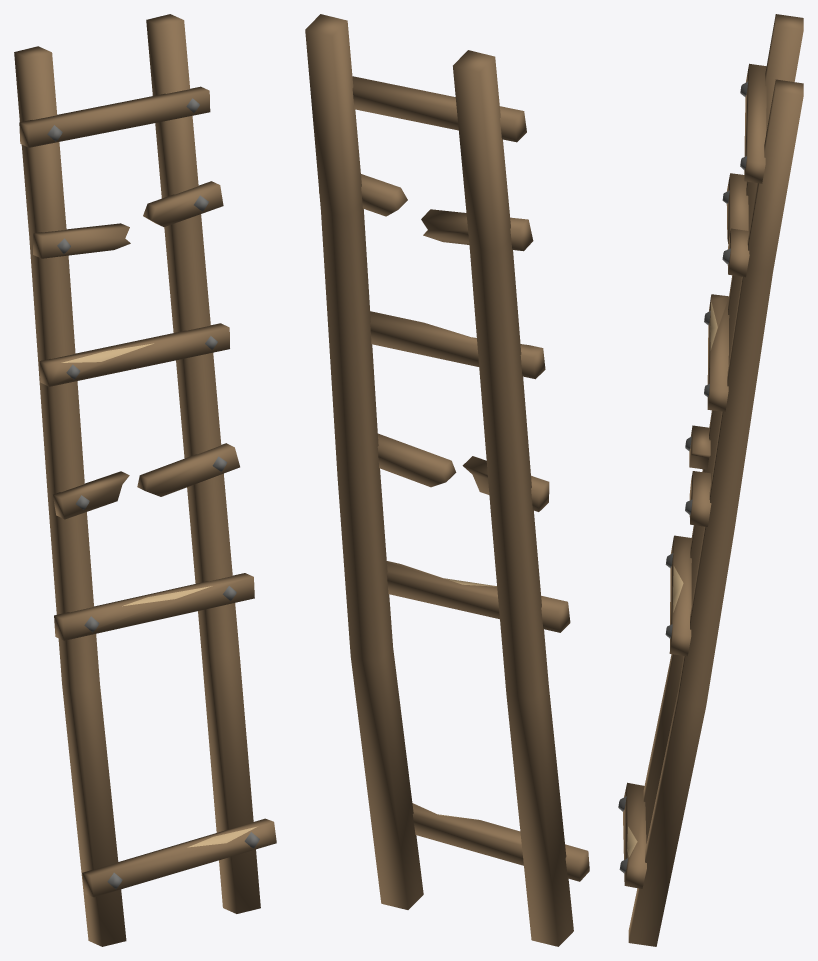
The model's file is rpgpp_ag_ladder_01c.fbx.
3 renders of one model, left to right at view 1: azimuth 30°, elevation 25°; view 2: azimuth 150°, elevation 25°; view 3: azimuth 270°, elevation 25°, orthographic. The views are drawn at different scales.
Parts seen in each view (by area): view 1: rpgpp_ag_ladder_01c; view 2: rpgpp_ag_ladder_01c; view 3: rpgpp_ag_ladder_01c.
Boxes of the visible parts, box(x1,y1,x2,y2) form: rpgpp_ag_ladder_01c: box(14, 14, 276, 946); rpgpp_ag_ladder_01c: box(305, 14, 589, 946); rpgpp_ag_ladder_01c: box(618, 14, 803, 946).
Bounding box in the file's own units: 0.7109 × 2.99 × 0.5884.
